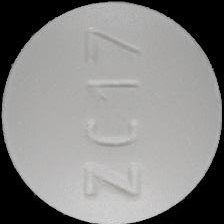54458-988: (0, 0, 224, 224)
